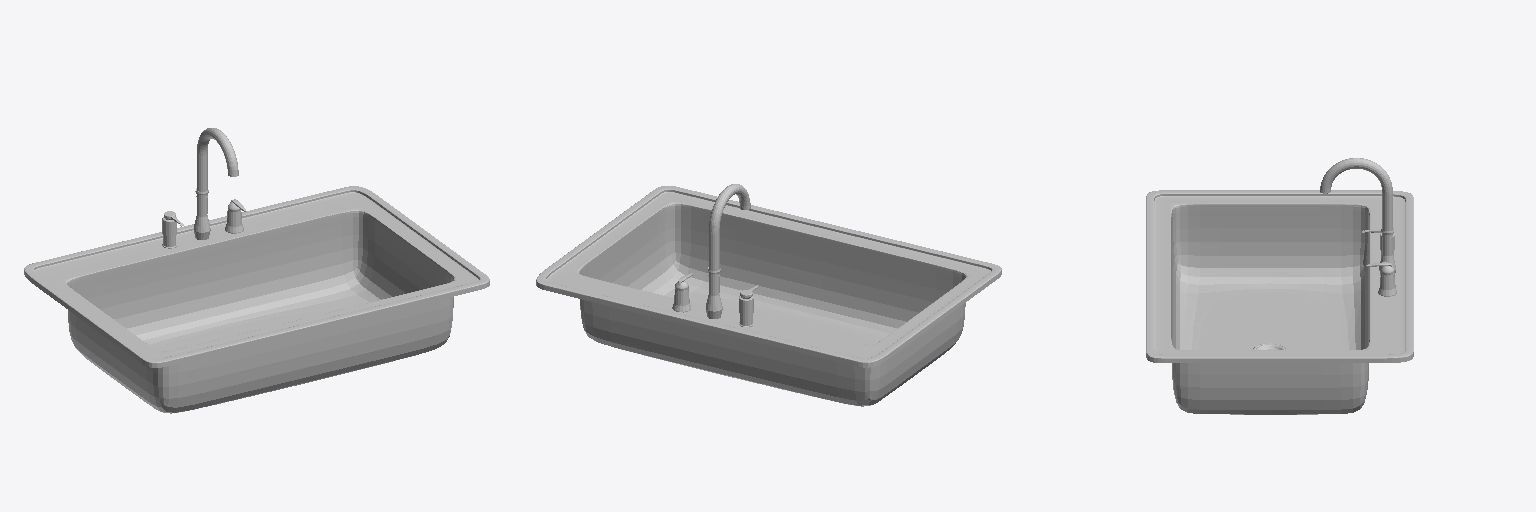
File: sink.obj
The picture shows the model from 3 angles: view 1: azimuth 30°, elevation 25°; view 2: azimuth 150°, elevation 25°; view 3: azimuth 270°, elevation 25°; orthographic projection.
Visible parts, largest first — view 1: basin_Cylinder.001, taps_Cylinder.002; view 2: basin_Cylinder.001, taps_Cylinder.002; view 3: basin_Cylinder.001, taps_Cylinder.002.
Part boxes in pixels (bbox=[...]): basin_Cylinder.001: bbox=[24, 186, 489, 413]; taps_Cylinder.002: bbox=[162, 128, 245, 248]; basin_Cylinder.001: bbox=[536, 186, 1001, 406]; taps_Cylinder.002: bbox=[672, 184, 760, 326]; basin_Cylinder.001: bbox=[1146, 190, 1413, 414]; taps_Cylinder.002: bbox=[1320, 158, 1396, 296].
Size of the model in its own units: 0.83 by 0.4503 by 0.56.